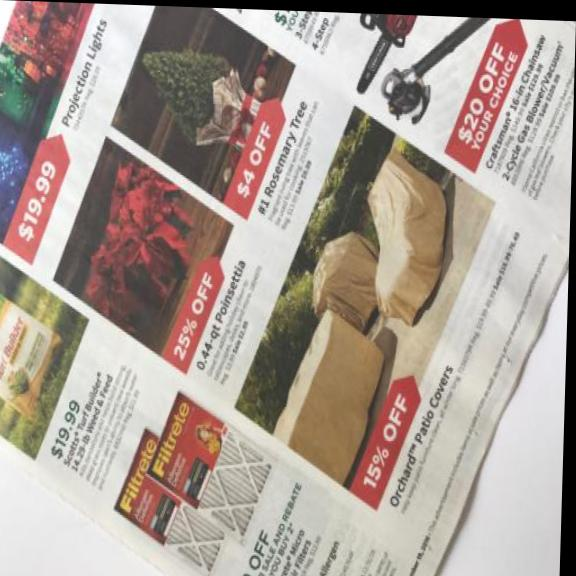Kertas: (0, 1, 576, 576)
